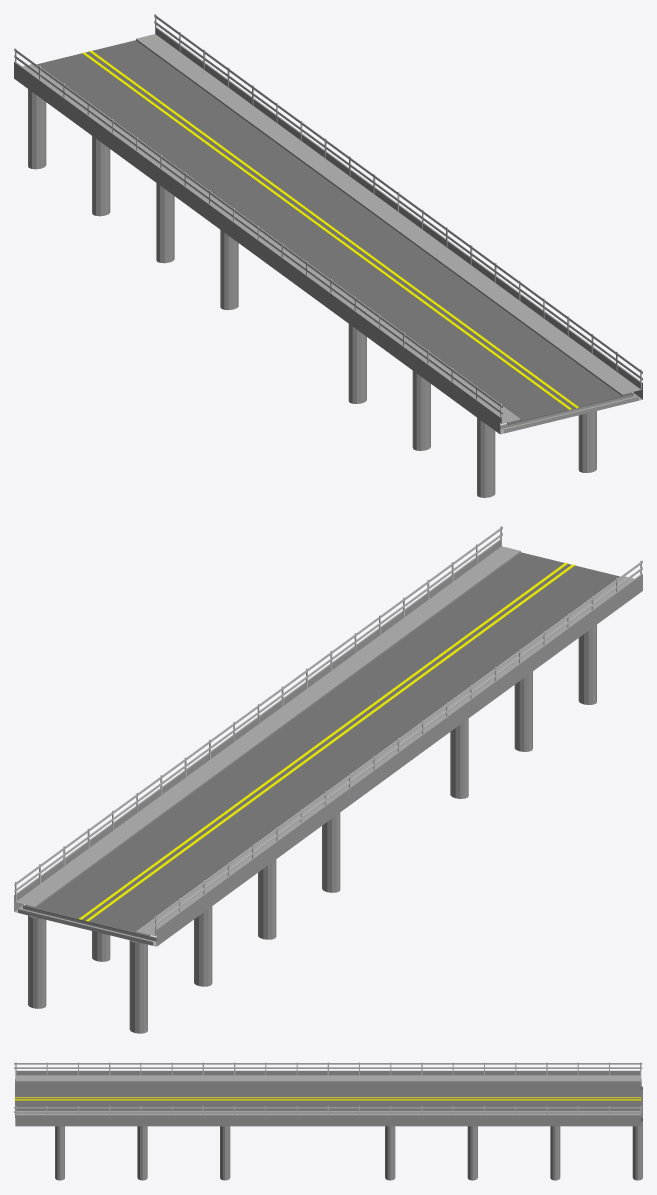
Rendered from FinalRoadSegment.fbx.
3 views of the same model, one above another, from view 1: azimuth 30°, elevation 25°; view 2: azimuth 150°, elevation 25°; view 3: azimuth 270°, elevation 25° (orthographic). The views are drawn at different scales.
Parts seen in each view (by area): view 1: Lane_Marker; view 2: Lane_Marker; view 3: Lane_Marker.
Boxes of the visible parts, x1,y1,x2,y2 form: Lane_Marker: (14, 14, 642, 497); Lane_Marker: (14, 526, 642, 1033); Lane_Marker: (14, 1062, 642, 1180).
Bounding box in the file's own units: 5079 × 4089 × 30116.
